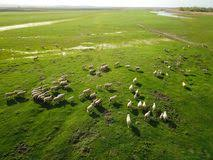sheep: (123, 100, 138, 110), (140, 110, 152, 121), (56, 79, 70, 88), (125, 114, 133, 128), (150, 101, 161, 111), (162, 111, 171, 123), (91, 98, 103, 106), (104, 81, 114, 90), (15, 88, 26, 96), (54, 94, 66, 101), (5, 90, 17, 97), (86, 102, 95, 111), (43, 94, 53, 102), (128, 81, 136, 90), (108, 94, 116, 103), (88, 92, 97, 100), (82, 86, 91, 94), (153, 69, 163, 76), (180, 80, 188, 88), (66, 95, 75, 102), (89, 68, 98, 75), (134, 88, 141, 96), (77, 92, 85, 99), (100, 64, 107, 72), (138, 101, 145, 108), (137, 65, 144, 72), (112, 61, 119, 67), (124, 64, 132, 69), (164, 72, 170, 78), (134, 78, 138, 82)
